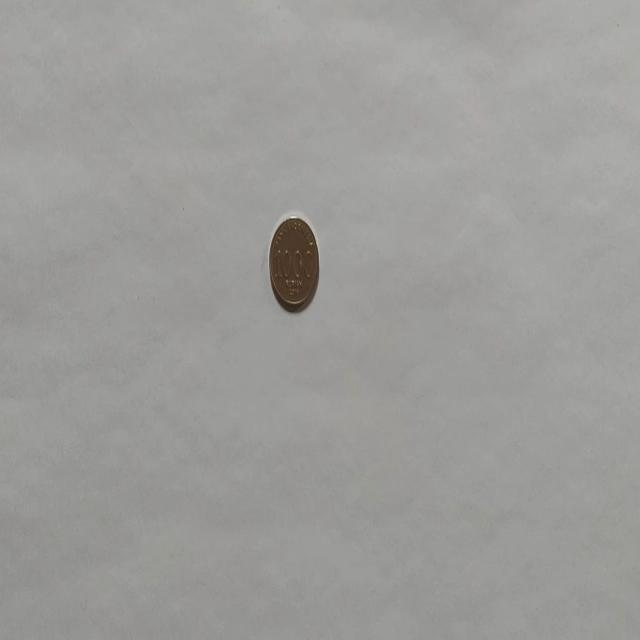seribu rupiah koin: (268, 212, 320, 313)
